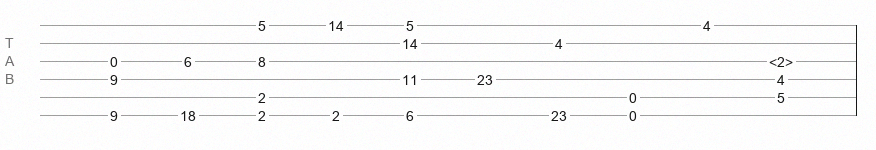0: (110, 54, 118, 64), (629, 108, 637, 118), (629, 90, 637, 100)
11: (402, 72, 418, 82)
14: (328, 18, 344, 28), (402, 36, 418, 46)
18: (180, 108, 196, 118)
2: (258, 108, 266, 118), (258, 90, 266, 100), (332, 108, 340, 118)
23: (477, 72, 493, 82), (551, 108, 567, 118)
4: (555, 36, 563, 46), (703, 18, 711, 28), (777, 72, 785, 82)
5: (258, 18, 266, 28), (406, 18, 414, 28), (777, 90, 785, 100)
6: (184, 54, 192, 64), (406, 108, 414, 118)
8: (258, 54, 266, 64)
9: (110, 108, 118, 118), (110, 72, 118, 82)
harmonic: (769, 54, 793, 64)
